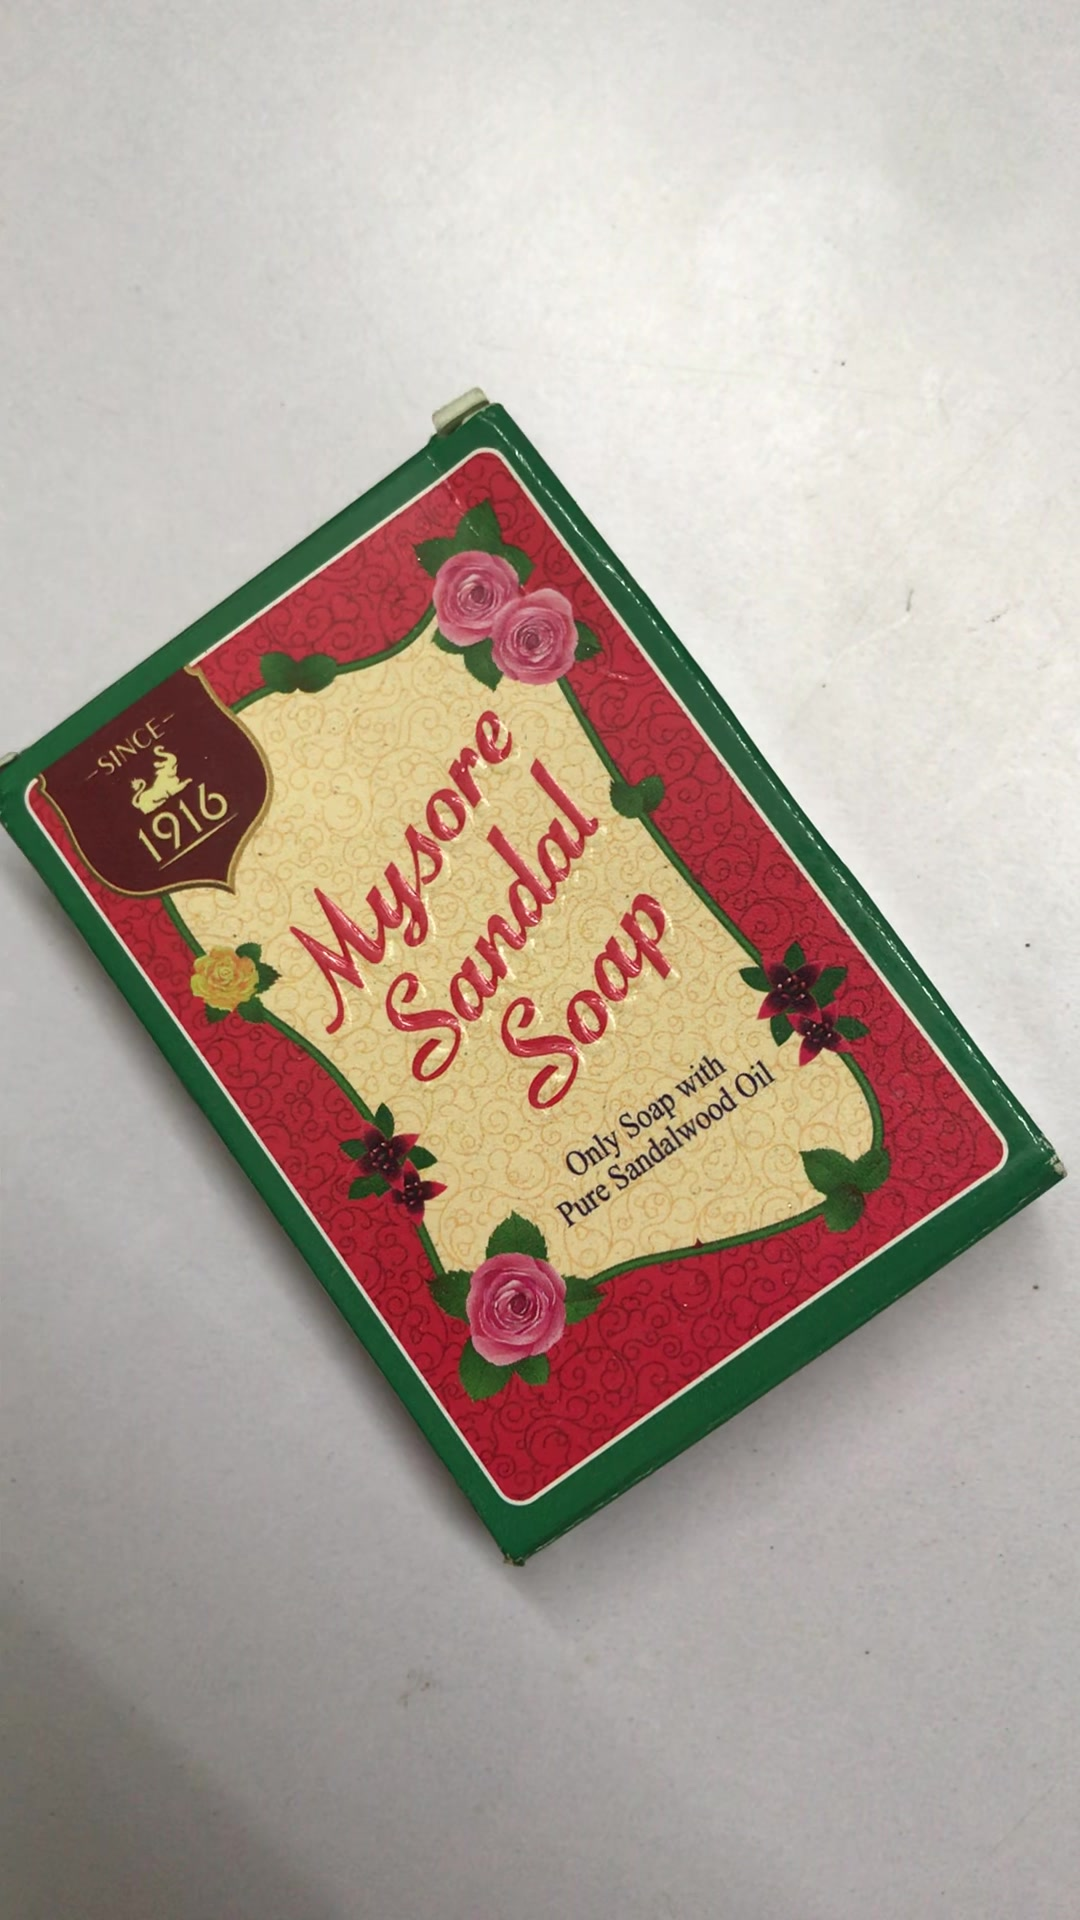mysore sandal soap: (13, 407, 1069, 1571)
